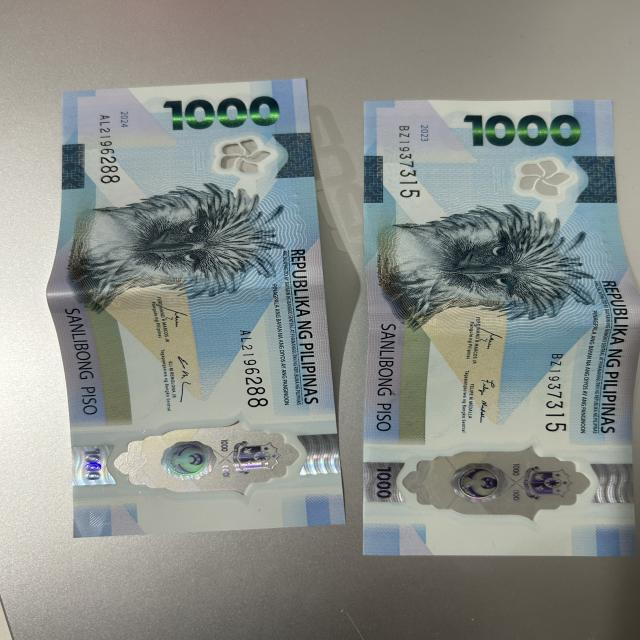clear_window: (390, 446, 596, 520), (108, 430, 302, 497)
eagle: (382, 213, 596, 315), (71, 193, 272, 296)
sampaguita: (214, 138, 273, 172), (518, 160, 572, 194)
